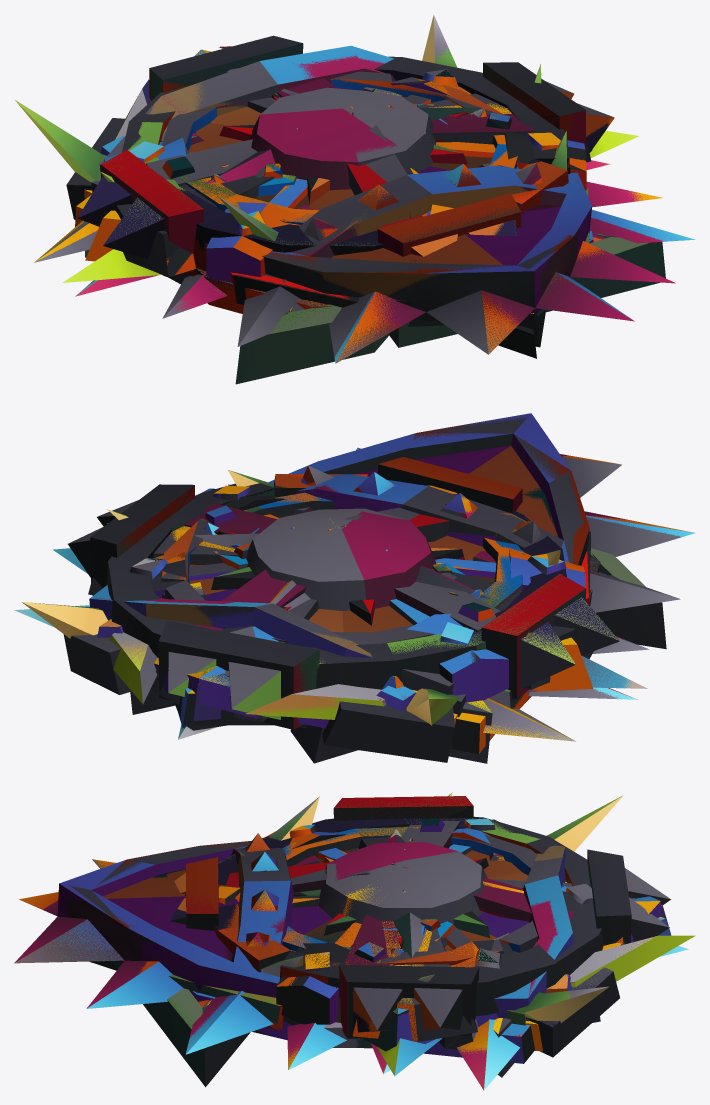
Rendered from ShieldPack01.FBX.
3 views of the same model, one above another, from view 1: azimuth 30°, elevation 25°; view 2: azimuth 150°, elevation 25°; view 3: azimuth 270°, elevation 25° (orthographic). The views are drawn at different scales.
Parts seen in each view (by area): view 1: shield16_grey, shield13_red, shield16_pink, shield16_blue, shield16_yellow, shield25_blue, shield13_grey, shield13_brown, shield04_red, shield25_grey, shield25_green, shield17_blue (+21 smaller); view 2: shield13_grey, shield16_grey, shield16_blue, shield25_grey, shield09_blue, shield13_red, shield25_blue, shield17_blue, shield13_green, shield24_grey, shield07_blue, shield23_blue (+24 smaller); view 3: shield16_blue, shield13_grey, shield25_grey, shield16_grey, shield16_pink, shield13_brown, shield13_red, shield25_green, shield23_blue, shield24_grey, shield17_white, shield25_blue (+29 smaller).
Boxes of the visible parts, x1,y1,x2,y2 form: shield16_grey: [34, 61, 586, 363]; shield13_red: [78, 68, 609, 270]; shield16_pink: [75, 54, 675, 334]; shield16_blue: [76, 45, 695, 363]; shield16_yellow: [36, 81, 662, 361]; shield25_blue: [116, 88, 591, 260]; shield13_grey: [122, 35, 613, 198]; shield13_brown: [158, 64, 611, 256]; shield04_red: [84, 221, 647, 383]; shield25_grey: [115, 87, 508, 277]; shield25_green: [167, 104, 519, 276]; shield17_blue: [104, 72, 585, 282]; shield13_grey: [68, 464, 619, 729]; shield16_grey: [194, 416, 681, 741]; shield16_blue: [14, 413, 695, 699]; shield25_grey: [88, 509, 593, 721]; shield09_blue: [63, 626, 454, 762]; shield13_red: [147, 474, 619, 729]; shield25_blue: [201, 507, 583, 656]; shield17_blue: [151, 487, 585, 702]; shield13_green: [116, 487, 618, 728]; shield24_grey: [161, 501, 498, 644]; shield07_blue: [22, 469, 560, 763]; shield23_blue: [184, 503, 478, 631]; shield16_blue: [46, 830, 573, 1090]; shield13_grey: [170, 806, 670, 1038]; shield25_grey: [311, 834, 635, 1041]; shield16_grey: [14, 829, 562, 1052]; shield16_pink: [14, 835, 562, 1090]; shield13_brown: [174, 806, 588, 1037]; shield13_red: [170, 796, 565, 1037]; shield25_green: [290, 842, 505, 1041]; shield23_blue: [239, 818, 573, 965]; shield24_grey: [287, 834, 564, 963]; shield17_white: [276, 891, 585, 1024]; shield25_blue: [293, 826, 502, 1033].
Size of the model in its own units: 19.11 by 4.54 by 21.27.
